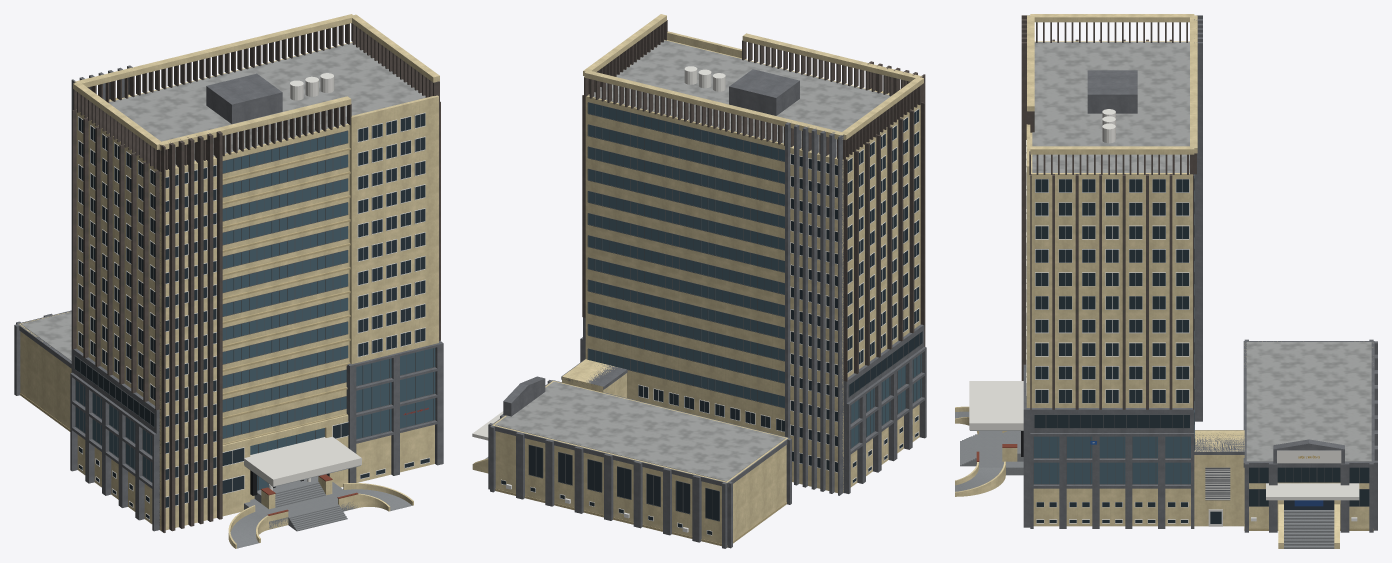
3 renders of one model, left to right at view 1: azimuth 30°, elevation 25°; view 2: azimuth 150°, elevation 25°; view 3: azimuth 270°, elevation 25°, orthographic. The views are drawn at different scales.
Visible parts, largest first — view 1: HD; view 2: HD; view 3: HD.
Boxes of the visible parts, x1,y1,x2,y2 form: HD: [14, 14, 443, 548]; HD: [472, 14, 926, 548]; HD: [955, 14, 1377, 548].
Size of the model in its own units: 52.2 by 58.2 by 58.99.
22 materials, 8 textured.
